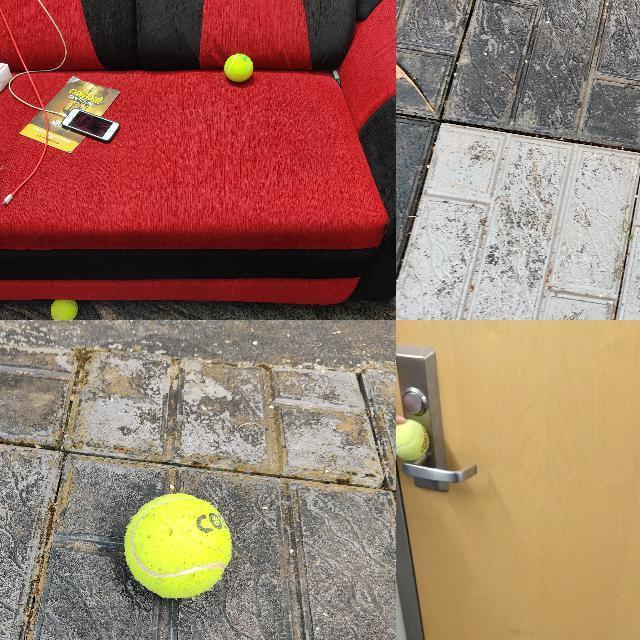tennis-ball: (123, 491, 231, 599), (396, 419, 430, 462), (224, 53, 253, 81), (50, 300, 79, 319)
